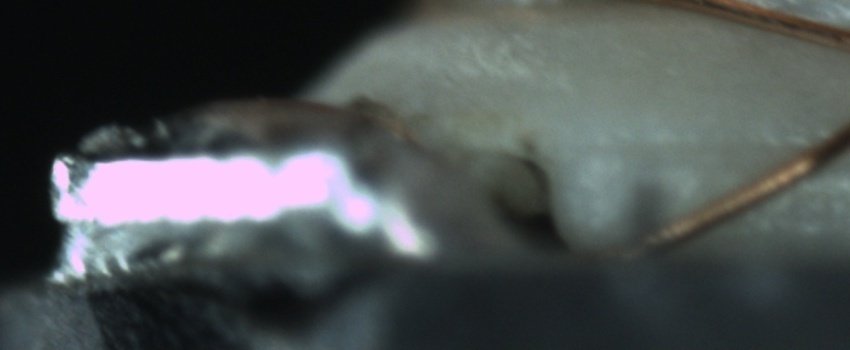DL: (612, 109, 845, 188)
